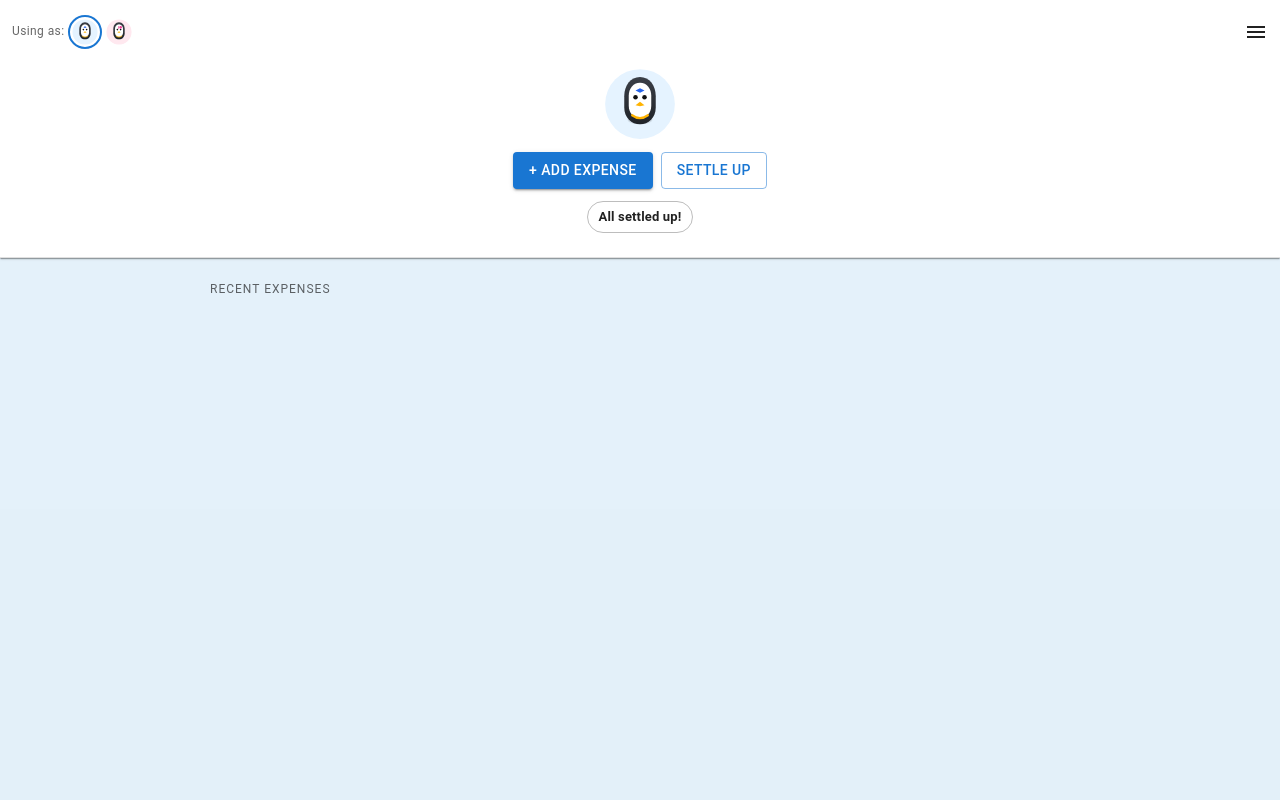
Test case: Reload list and scroll to top on create › after creating an expense, it appears in the list and window scrolls to top
Click the button "+ Add expense" at (583, 170), box [513,152,653,188]
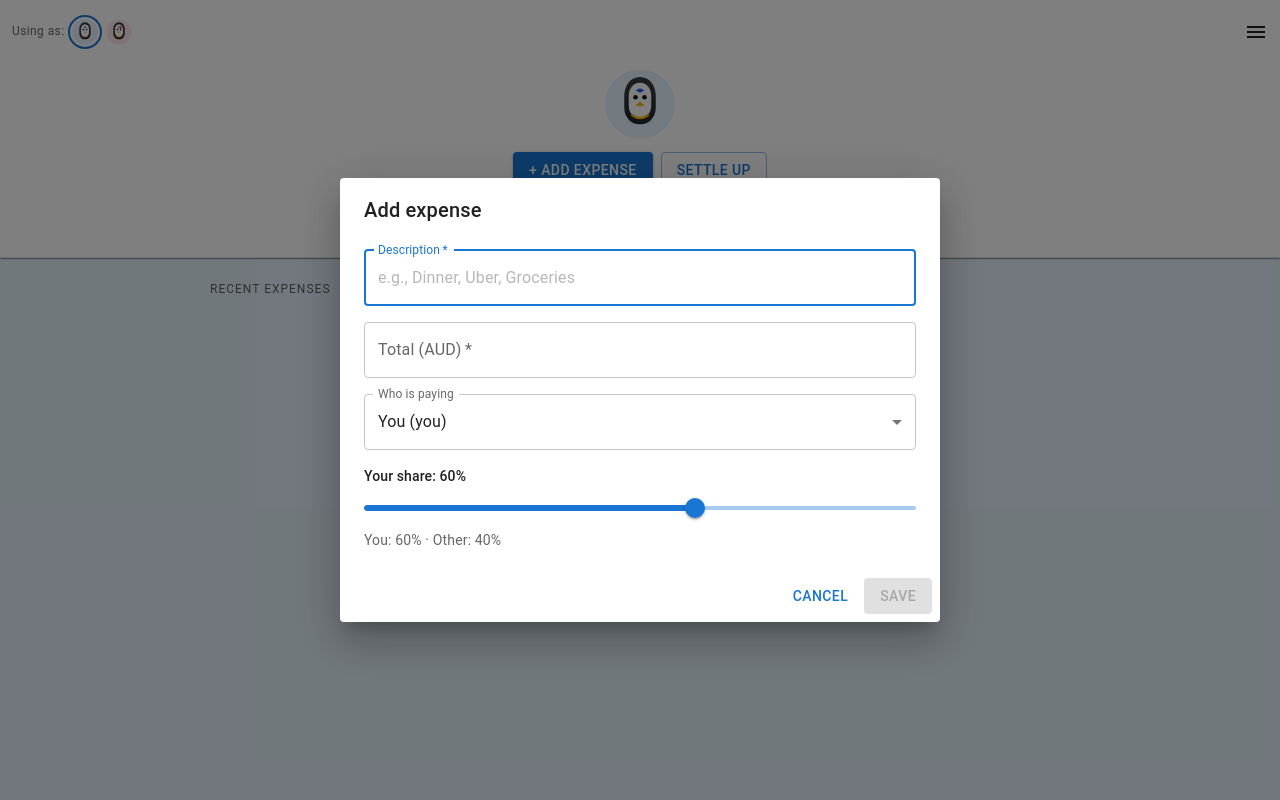
Type "Created item" into the field labelled "Description *" at (640, 278), box [364,250,916,306]
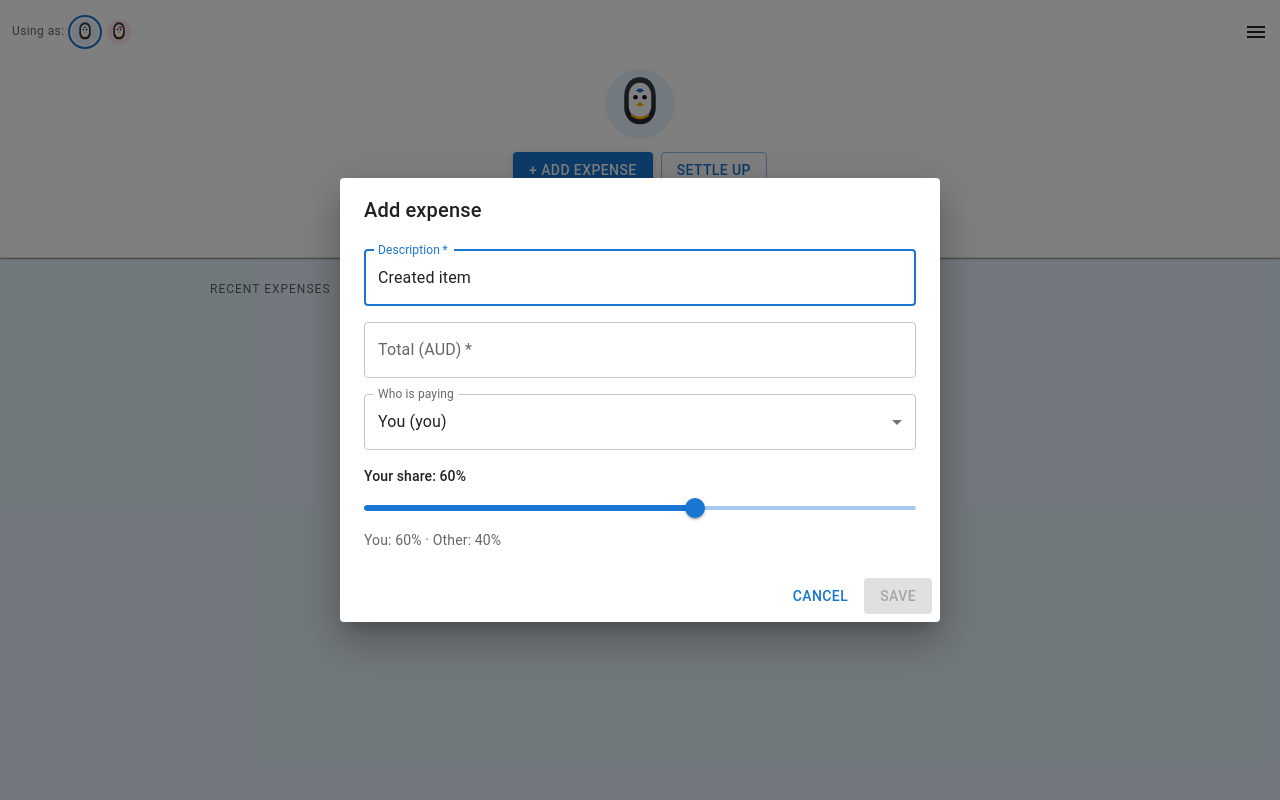
Type "12.34" into the number field labelled "Total (AUD) *" at (640, 350), box [364,322,916,378]
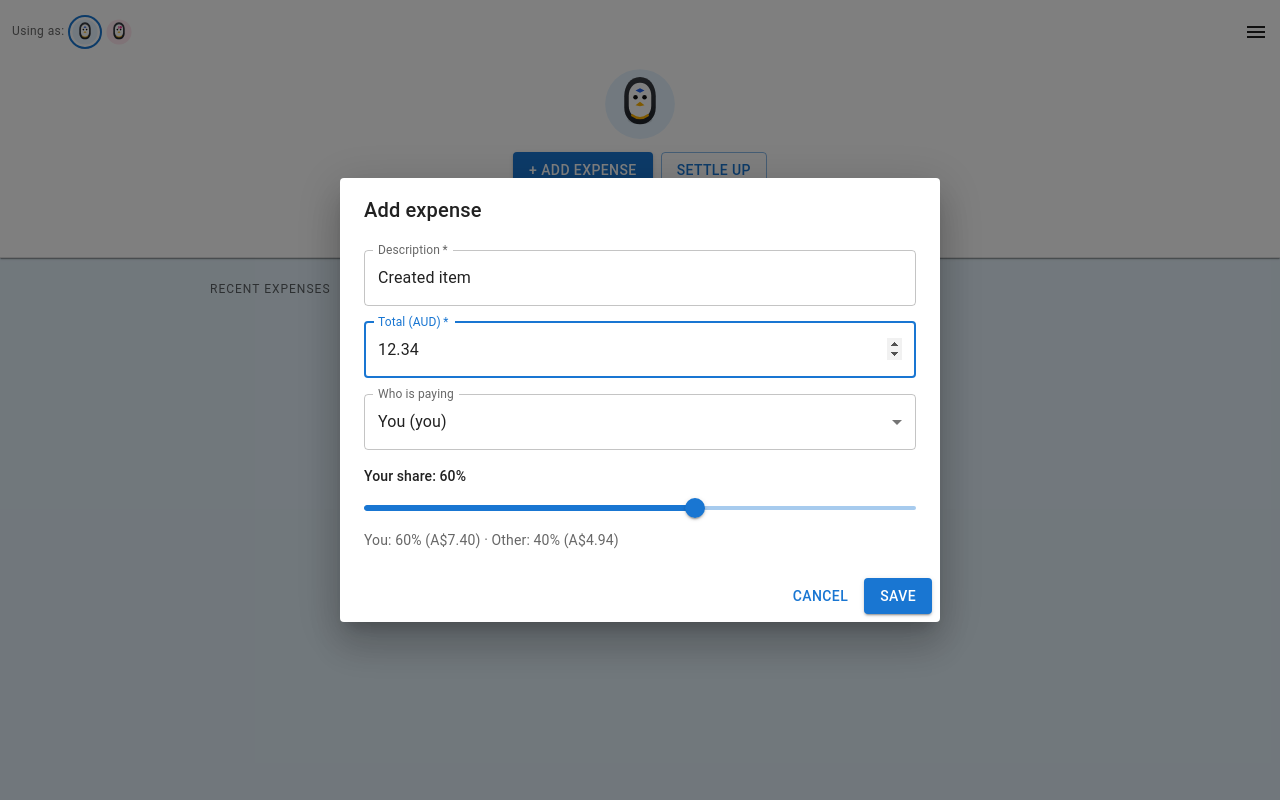
Click the button "Save" at (898, 596), box [864,578,932,614]
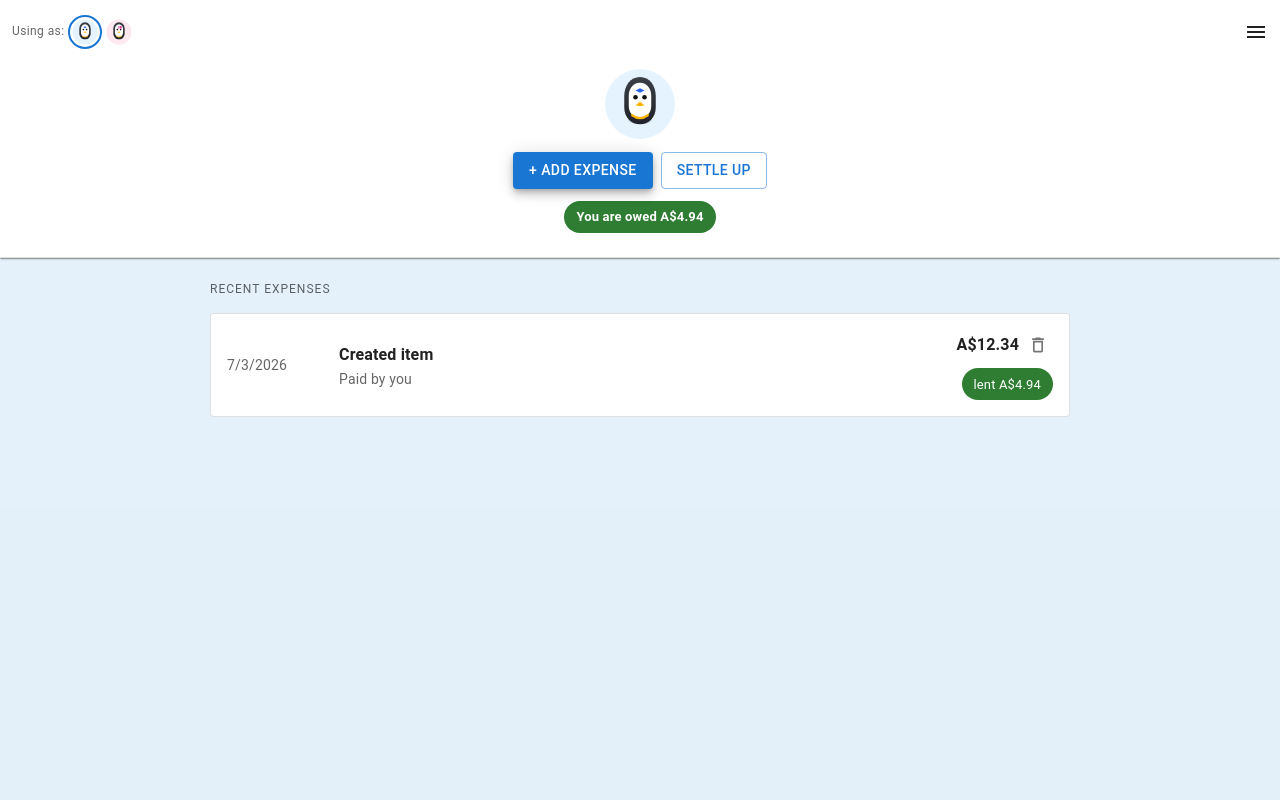
Check: the heading "Created item" is shown, box [339,345,433,364]
